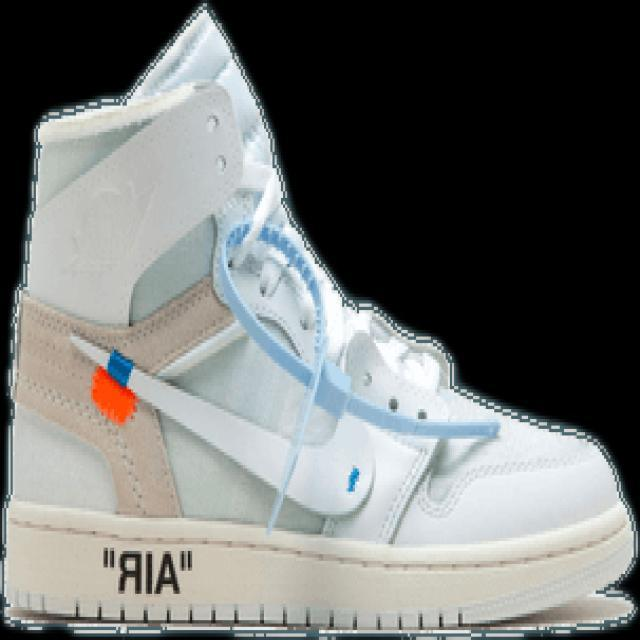J1_InsoleChar: (3, 3, 635, 633)
J1_MateComp: (7, 77, 252, 518)
J1_ShoeLogo: (100, 545, 194, 596), (88, 349, 138, 426), (344, 463, 361, 494)
J1_StitchPattern: (13, 271, 605, 541), (216, 197, 495, 543), (211, 190, 358, 529), (9, 290, 183, 517), (251, 224, 328, 533), (376, 435, 594, 543), (375, 381, 501, 544), (222, 208, 338, 369), (447, 378, 597, 448), (248, 252, 323, 360), (376, 439, 441, 545), (131, 275, 215, 350), (19, 121, 44, 288), (108, 428, 149, 515), (35, 91, 132, 125), (591, 576, 636, 631)
